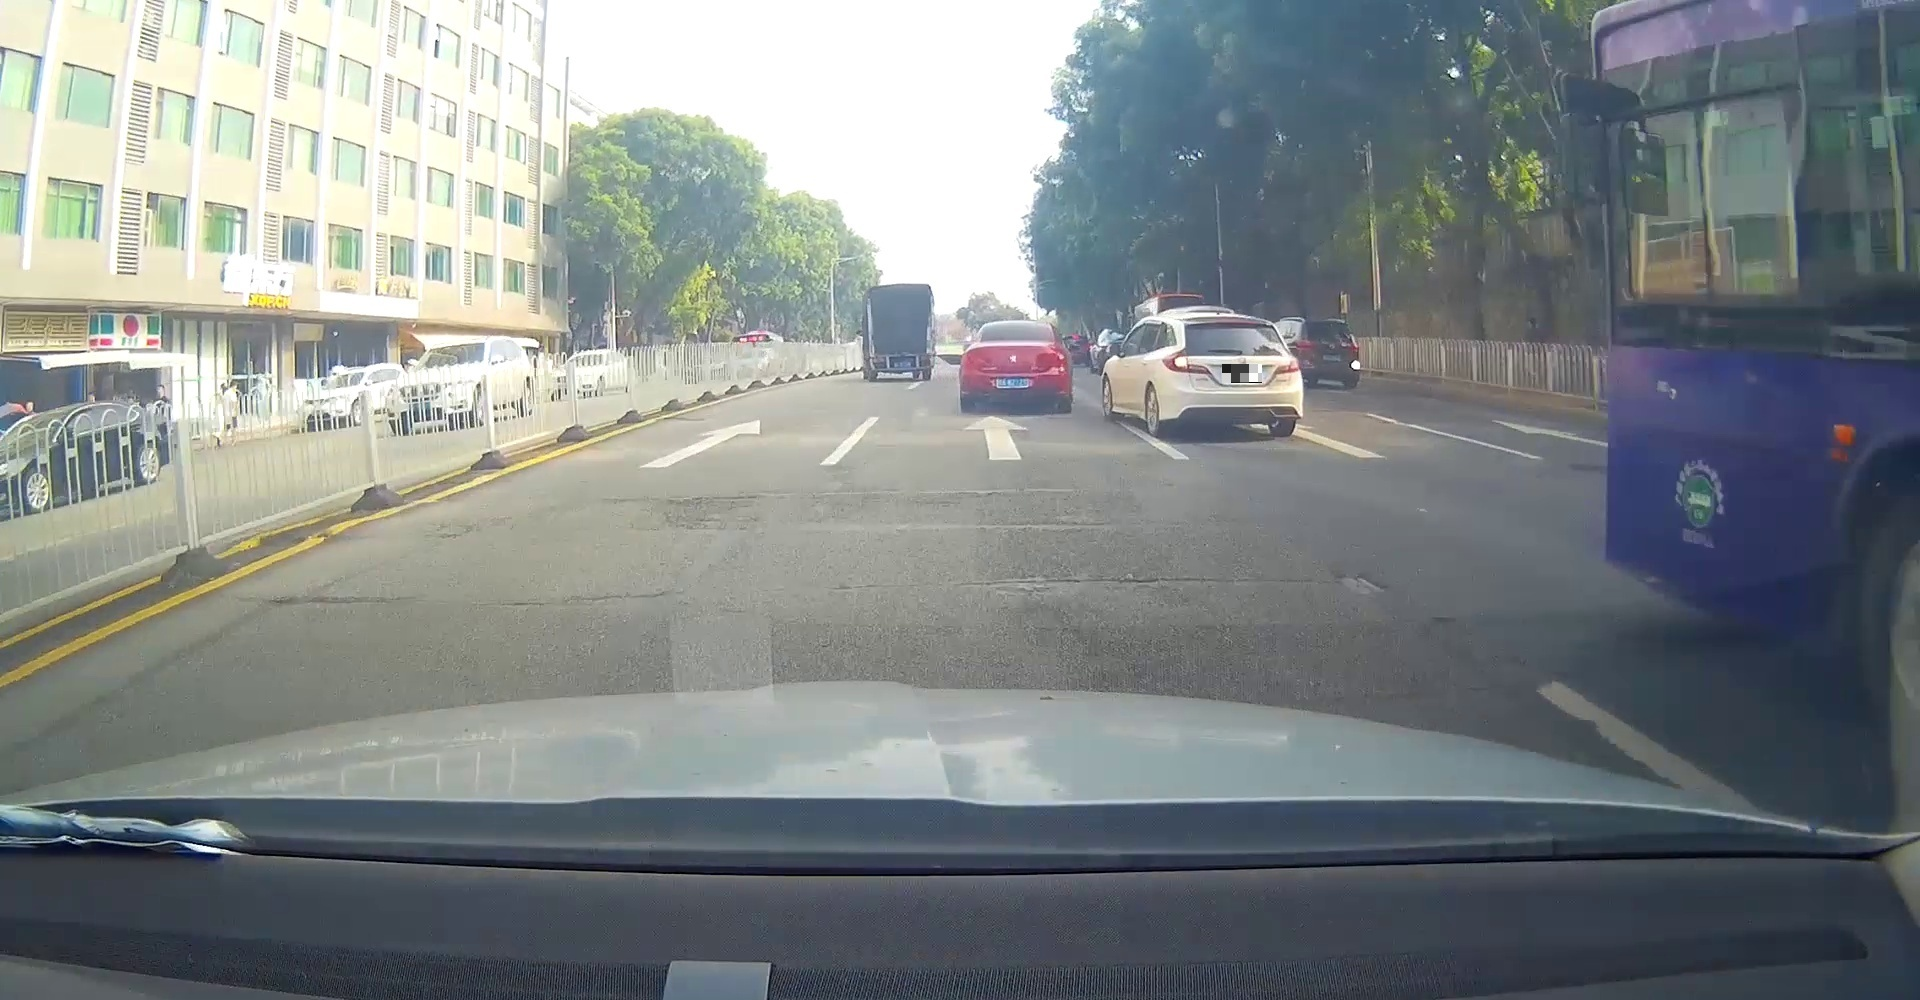L_light: (1163, 348, 1211, 376), (963, 353, 977, 365), (872, 357, 888, 363)
R_light: (1274, 354, 1299, 373), (1053, 352, 1070, 365), (919, 355, 932, 360)
T_light: (1215, 319, 1256, 324), (894, 286, 907, 291), (1012, 324, 1026, 327)
day-left: (1157, 312, 1304, 437)
day-no: (957, 320, 1072, 412), (863, 283, 935, 381)
plate_1: (1222, 364, 1262, 383)
